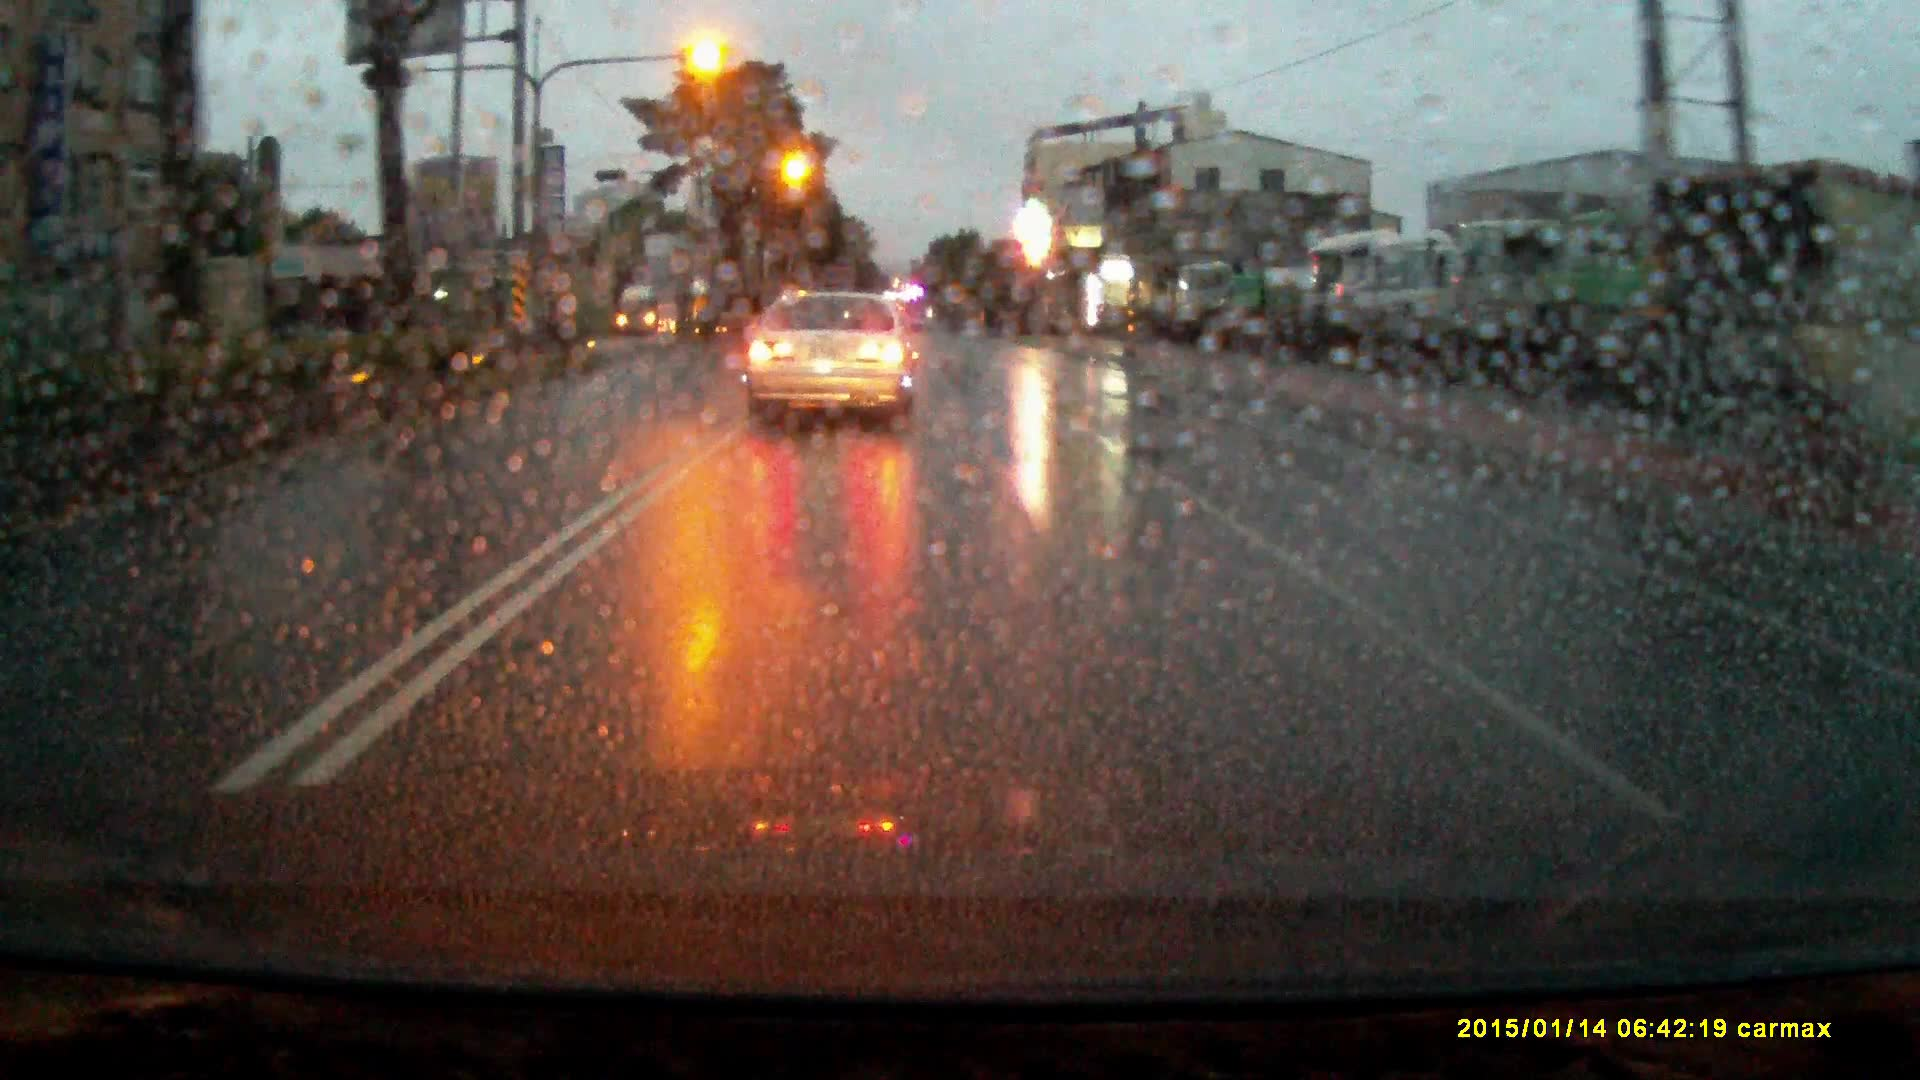vehicle: (744, 291, 922, 431), (1561, 208, 1681, 396), (1455, 220, 1572, 386), (1365, 229, 1466, 363), (1313, 237, 1400, 345), (1215, 268, 1329, 330), (1178, 261, 1240, 334), (620, 287, 676, 335)
